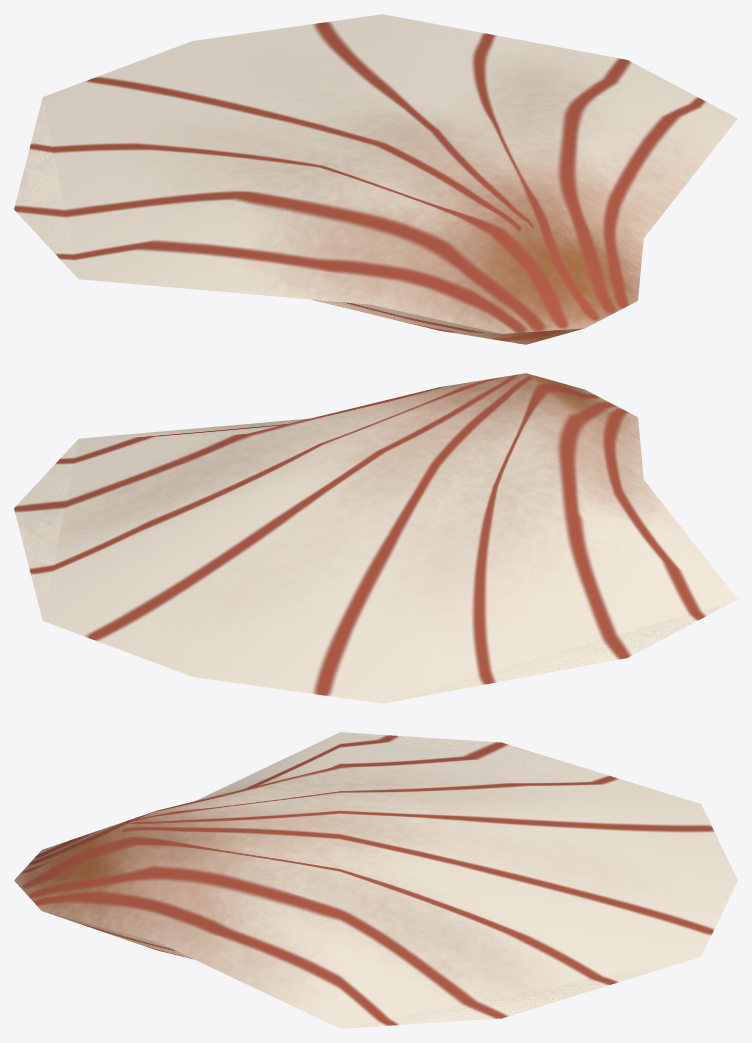
The model's file is coquille_stj.fbx.
3 renders of one model, top to bottom at view 1: azimuth 30°, elevation 25°; view 2: azimuth 150°, elevation 25°; view 3: azimuth 270°, elevation 25°, orthographic. The views are drawn at different scales.
Parts seen in each view (by area): view 1: coquille_stj; view 2: coquille_stj; view 3: coquille_stj.
Boxes of the visible parts, bbox=[...] form: coquille_stj: bbox=[14, 14, 737, 344]; coquille_stj: bbox=[14, 373, 737, 703]; coquille_stj: bbox=[14, 732, 737, 1028].
Bounding box in the file's own units: 25.95 × 4.82 × 26.77.
1 material, 1 textured.
